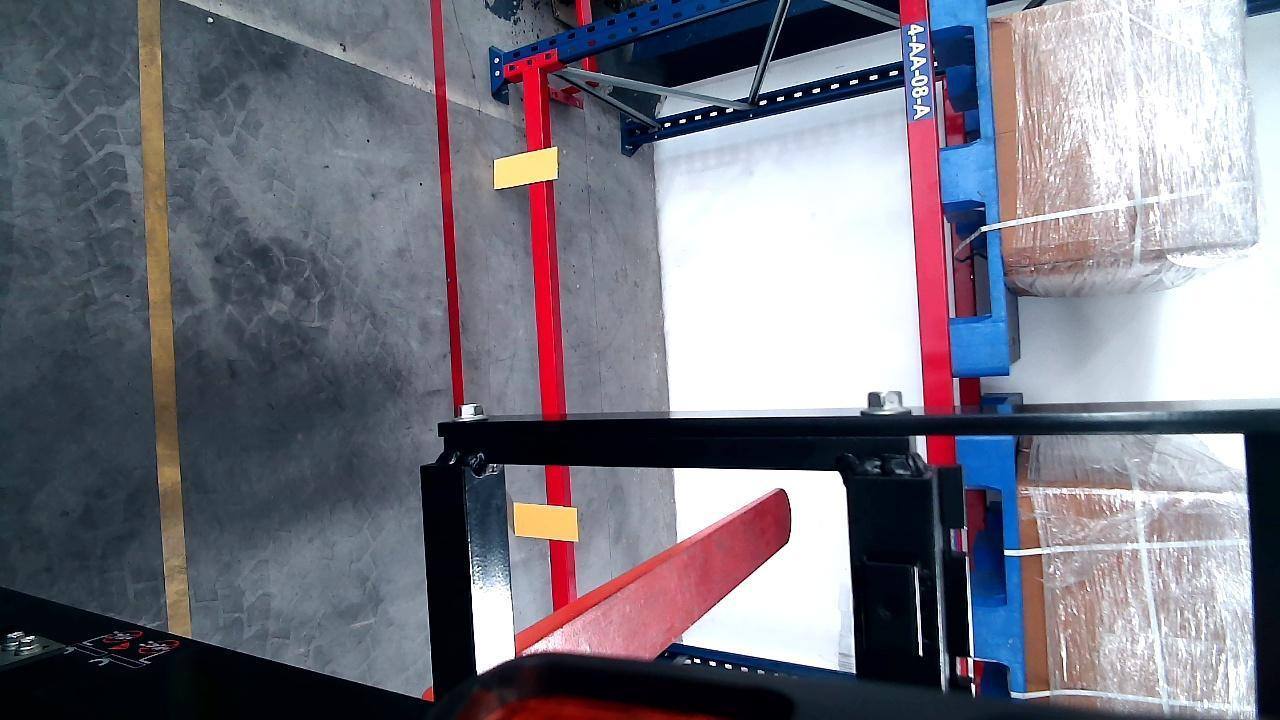h_rack: (913, 0, 974, 392), (902, 0, 946, 408), (524, 66, 559, 419)
orange_strip: (493, 149, 557, 188), (512, 503, 578, 540)
red_line: (432, 0, 465, 412)
small_pallet: (934, 0, 1006, 368), (960, 437, 1027, 691)
yellow_line: (139, 0, 189, 644)
